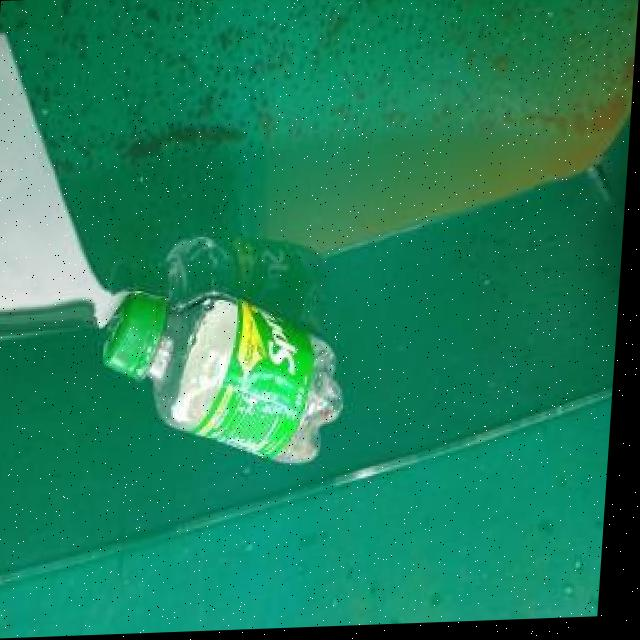bottle: (99, 279, 355, 478)
